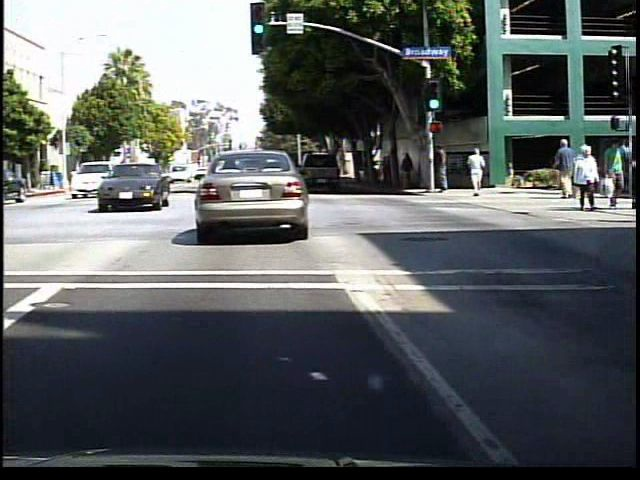person: (573, 142, 604, 214), (604, 141, 629, 211), (556, 140, 582, 203), (467, 145, 492, 201), (437, 142, 457, 200), (403, 151, 419, 191), (386, 154, 400, 189)
